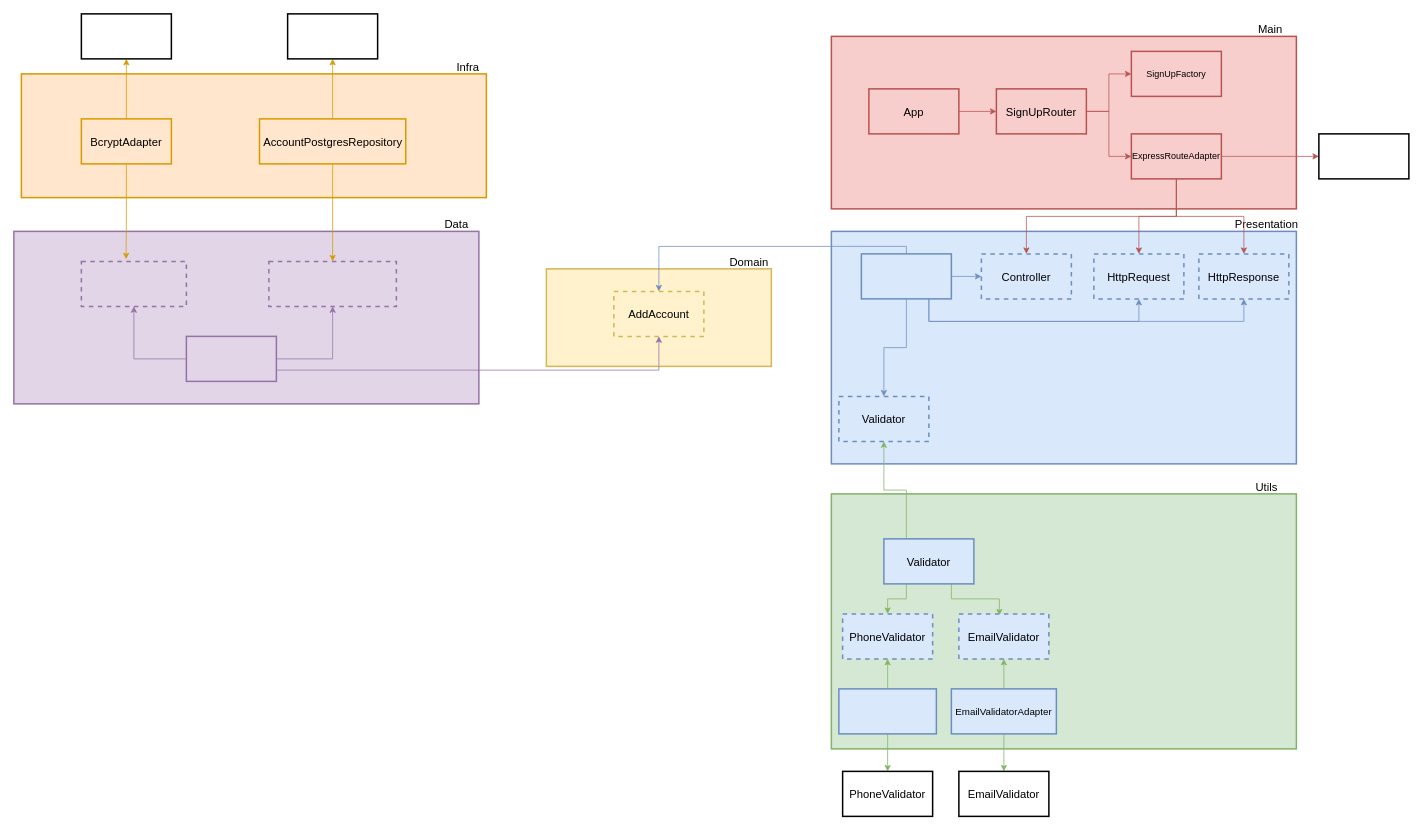
Image size: 1422x830. Some labels were removed from this diagram. The centre of each missing label's shape, as x and y in pixels:
"AddAccountRepository" goes at (x=332, y=283).
"BCrypt" goes at (x=126, y=36).
"DbAddAccount" goes at (x=231, y=358).
"Encrytper" goes at (x=133, y=283).
"Express" goes at (x=1363, y=156).
"PhoneValidatorAdapter" goes at (x=887, y=711).
"PostgreSQL" goes at (x=332, y=36).
"SingUpController" goes at (x=906, y=276).
